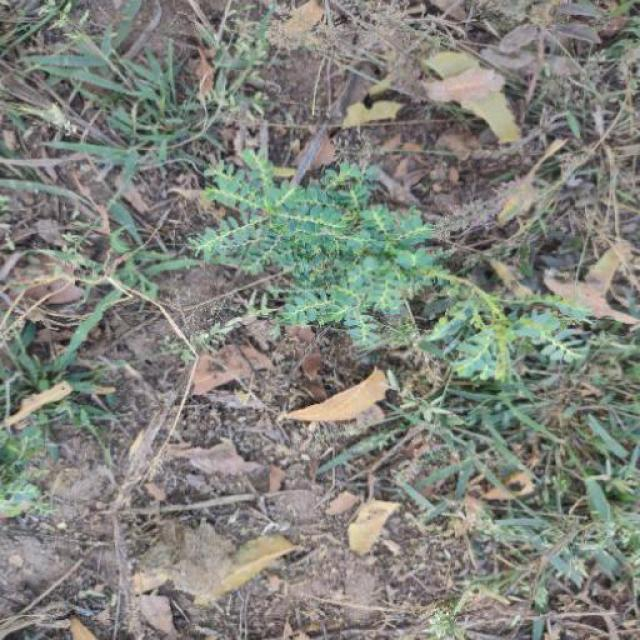weed: (2, 4, 196, 616), (196, 130, 512, 398)
